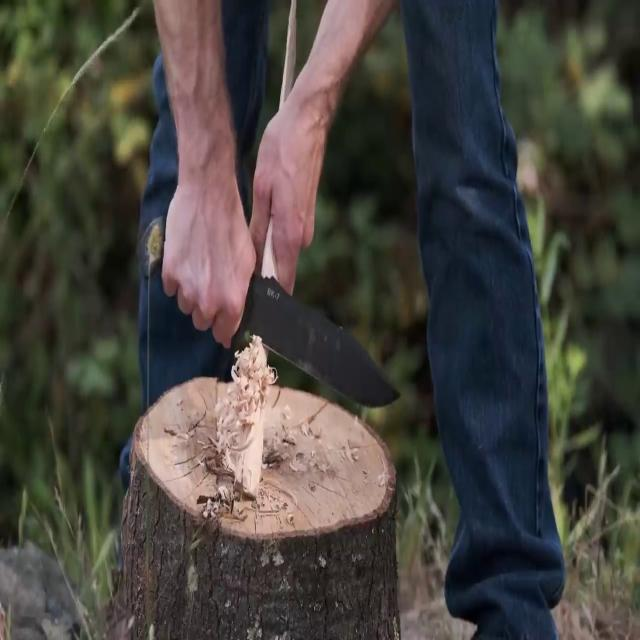Knife: (139, 220, 406, 420)
